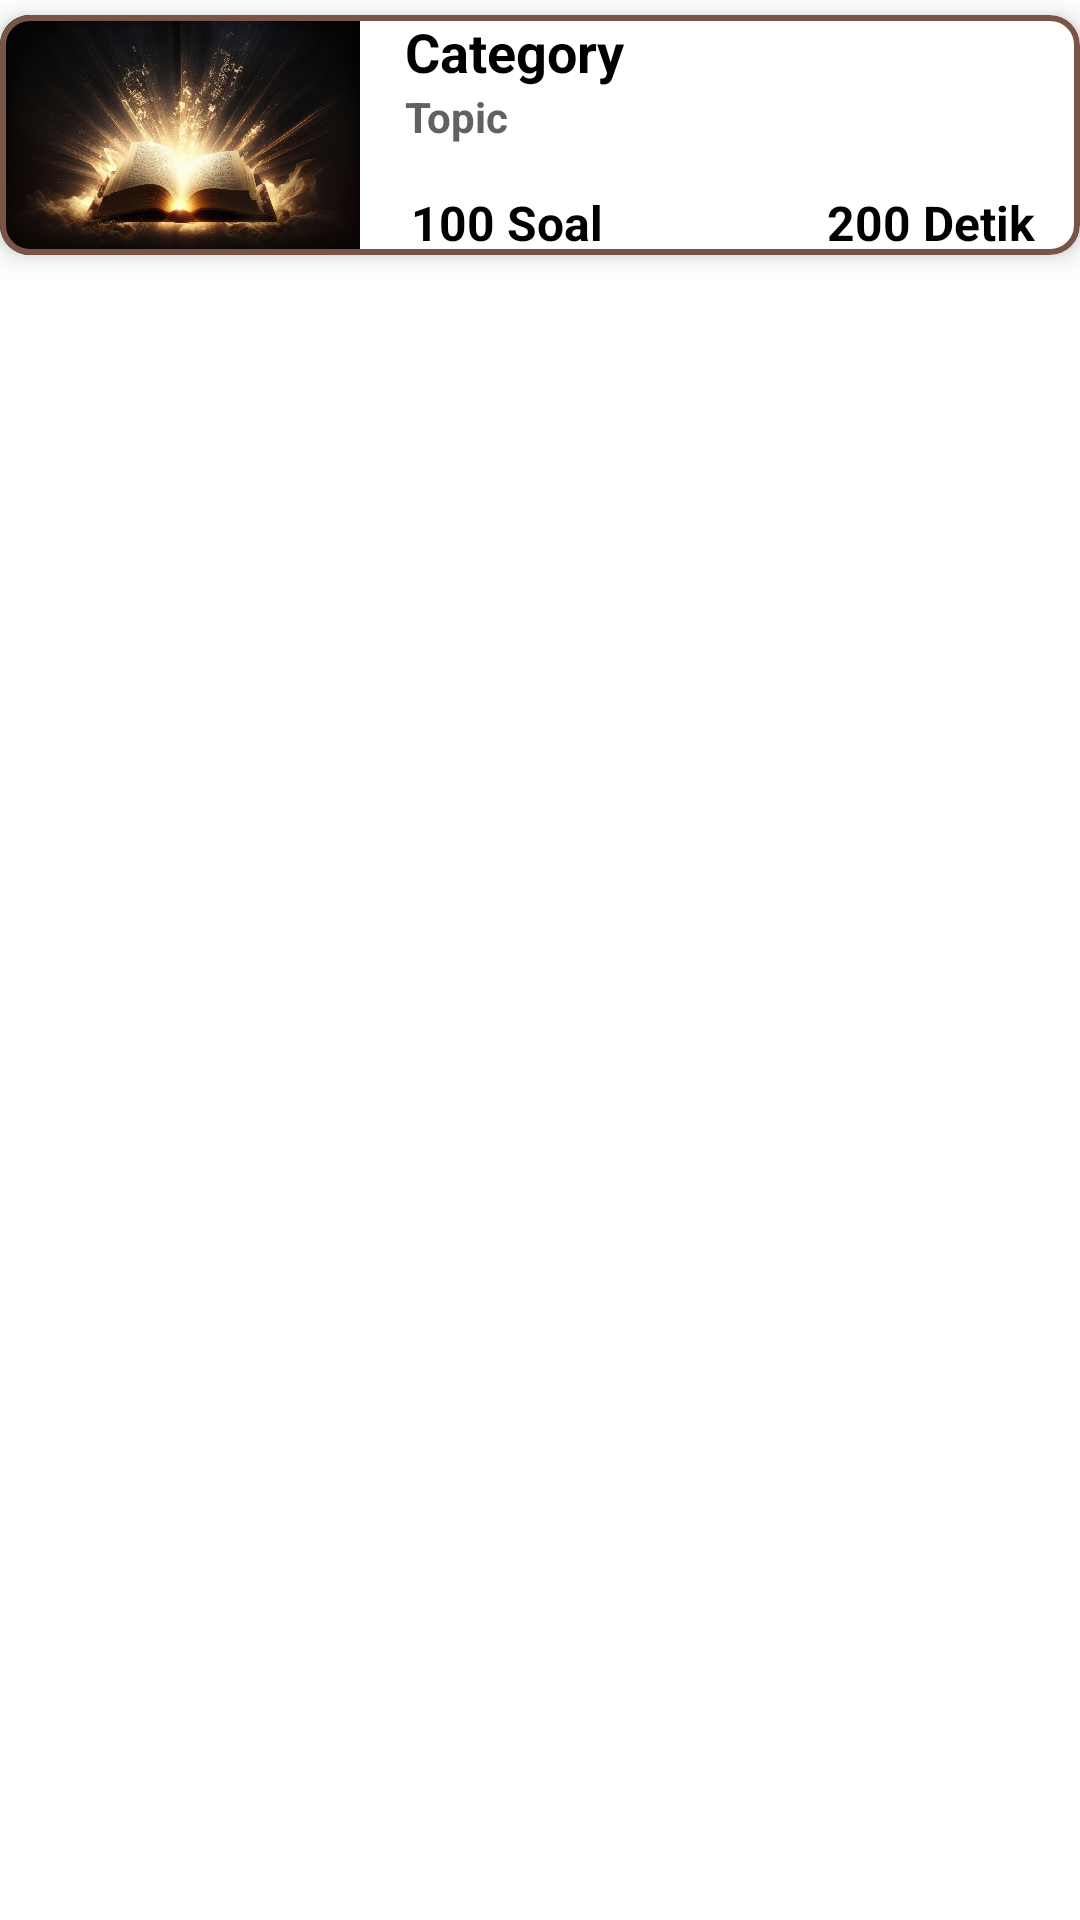

Point at icon controls on the screen. Image size 1080x1920, points as (x=x, y=y).
ayat alkitab: (x=180, y=135)
